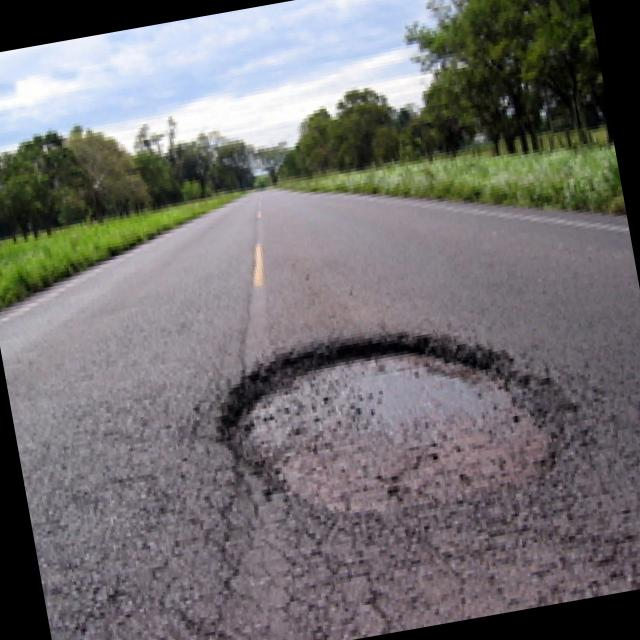Potholes: (200, 302, 586, 560)
